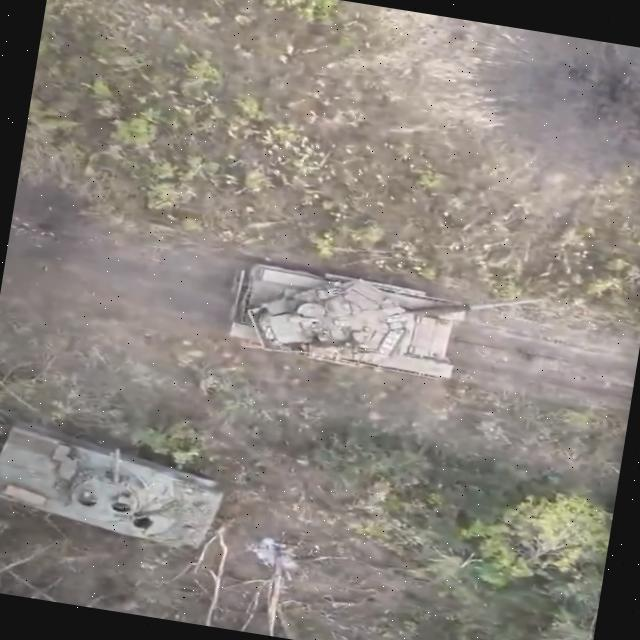AIFV: (1, 417, 233, 557)
MBT: (221, 248, 545, 396)
